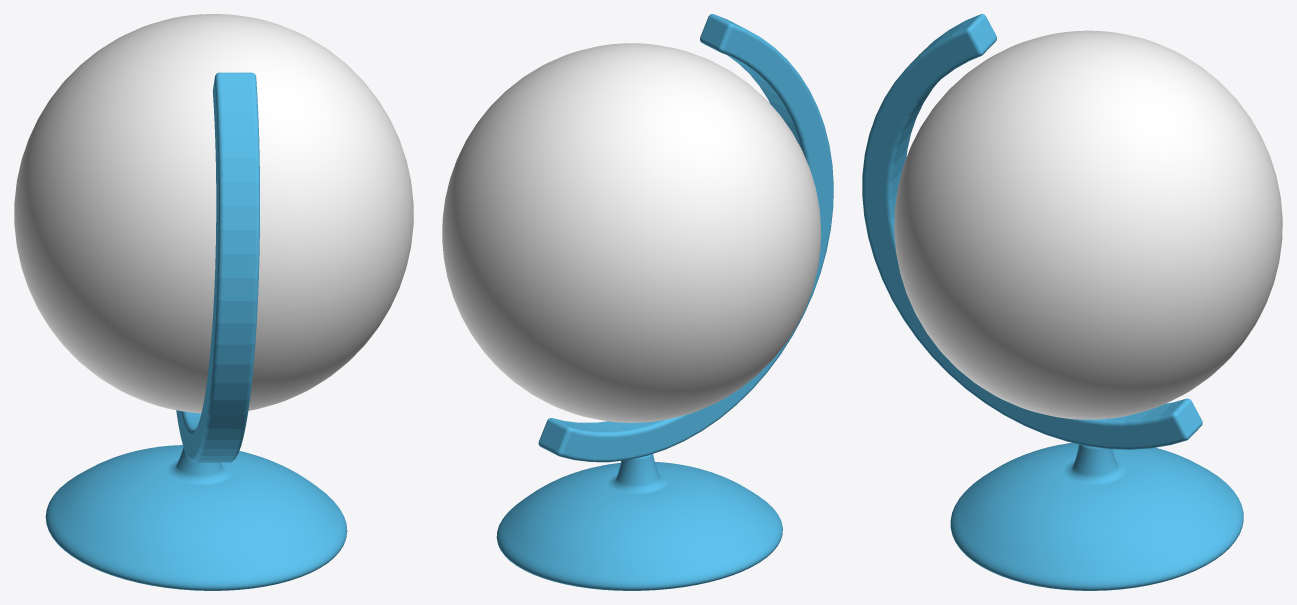
File: globe.glb
3 renders of one model, left to right at view 1: azimuth 30°, elevation 25°; view 2: azimuth 150°, elevation 25°; view 3: azimuth 270°, elevation 25°, orthographic. The views are drawn at different scales.
Visible parts, largest first — view 1: globe/glass, globe-base/color, globe/around/color; view 2: globe/glass, globe-base/color, globe/around/color; view 3: globe/glass, globe-base/color, globe/around/color.
Part boxes in pixels (x1,y1,x2,y2): globe/glass: [14, 14, 413, 413]; globe-base/color: [45, 445, 347, 590]; globe/around/color: [176, 72, 259, 462]; globe/glass: [442, 43, 820, 422]; globe-base/color: [496, 454, 782, 590]; globe/around/color: [538, 14, 833, 462]; globe/glass: [894, 30, 1282, 419]; globe-base/color: [950, 442, 1243, 590]; globe/around/color: [862, 14, 1202, 449].
Size of the model in its own units: 1.77 by 2.52 by 1.92.
